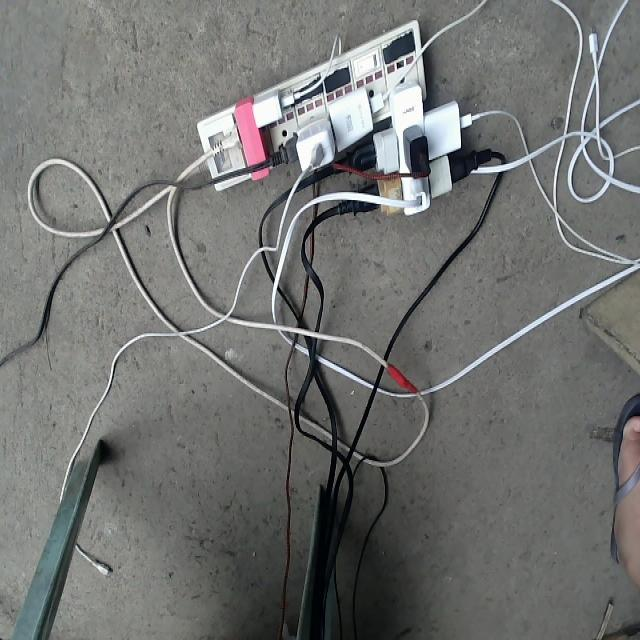-: (193, 18, 477, 218)
